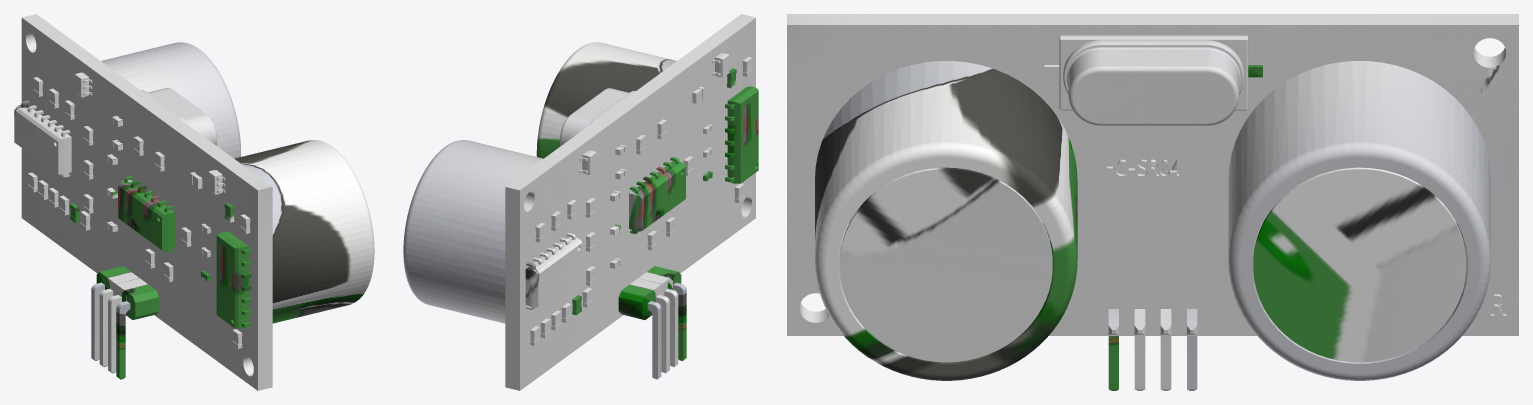
File: sonar.dae
3 views of the same model, side by side, from view 1: azimuth 30°, elevation 25°; view 2: azimuth 150°, elevation 25°; view 3: azimuth 270°, elevation 25° (orthographic). The views are drawn at different scales.
Visible parts, largest first — view 1: capteur_ultrason; view 2: capteur_ultrason; view 3: capteur_ultrason.
Part boxes in pixels (x1,y1,x2,y2): capteur_ultrason: (14,14,374,390); capteur_ultrason: (403,14,758,390); capteur_ultrason: (787,14,1518,390).
Bounding box in the file's own units: 0.0177 × 0.0446 × 0.0269.
Materials: 1 (1 with a texture image).
